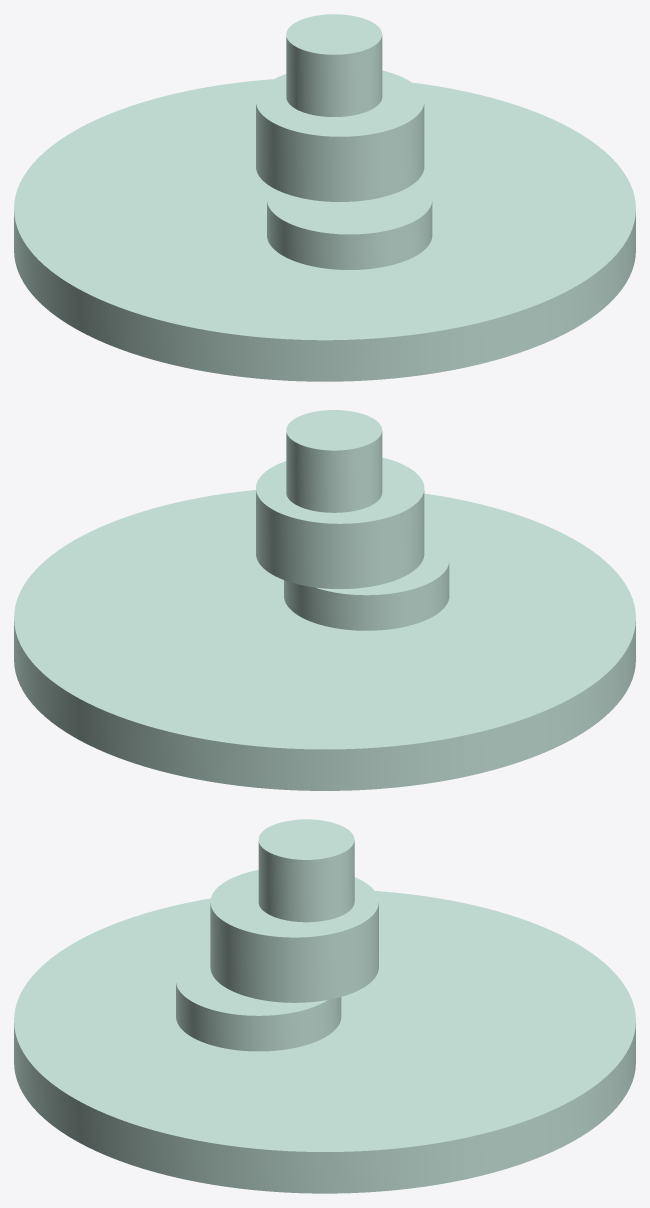
3 renders of one model, top to bottom at view 1: azimuth 30°, elevation 25°; view 2: azimuth 150°, elevation 25°; view 3: azimuth 270°, elevation 25°, orthographic.
Parts seen in each view (by area): view 1: Renderer Node; view 2: Renderer Node; view 3: Renderer Node.
Part boxes in pixels (bbox=[...]): Renderer Node: bbox=[14, 14, 635, 381]; Renderer Node: bbox=[14, 410, 635, 790]; Renderer Node: bbox=[14, 819, 635, 1193].
Bounding box in the file's own units: 1.48 × 0.5859 × 1.48.
